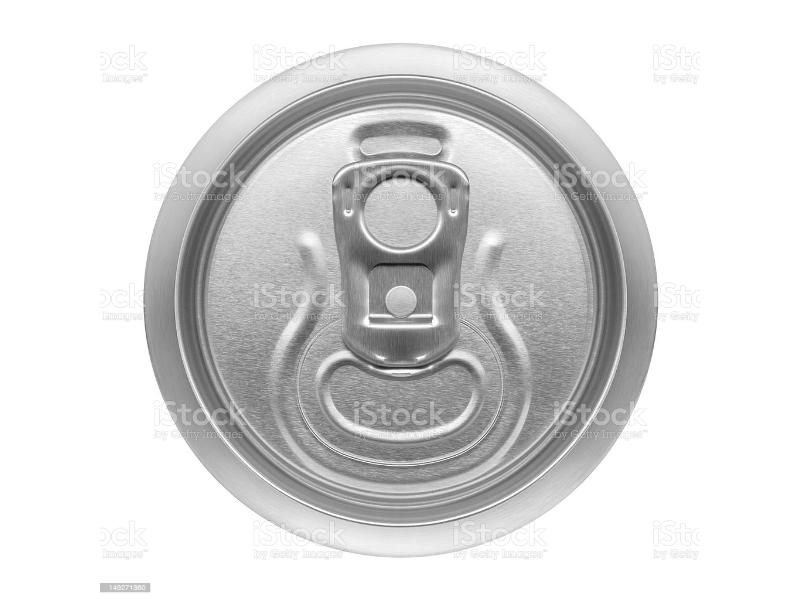can: (130, 33, 667, 566)
